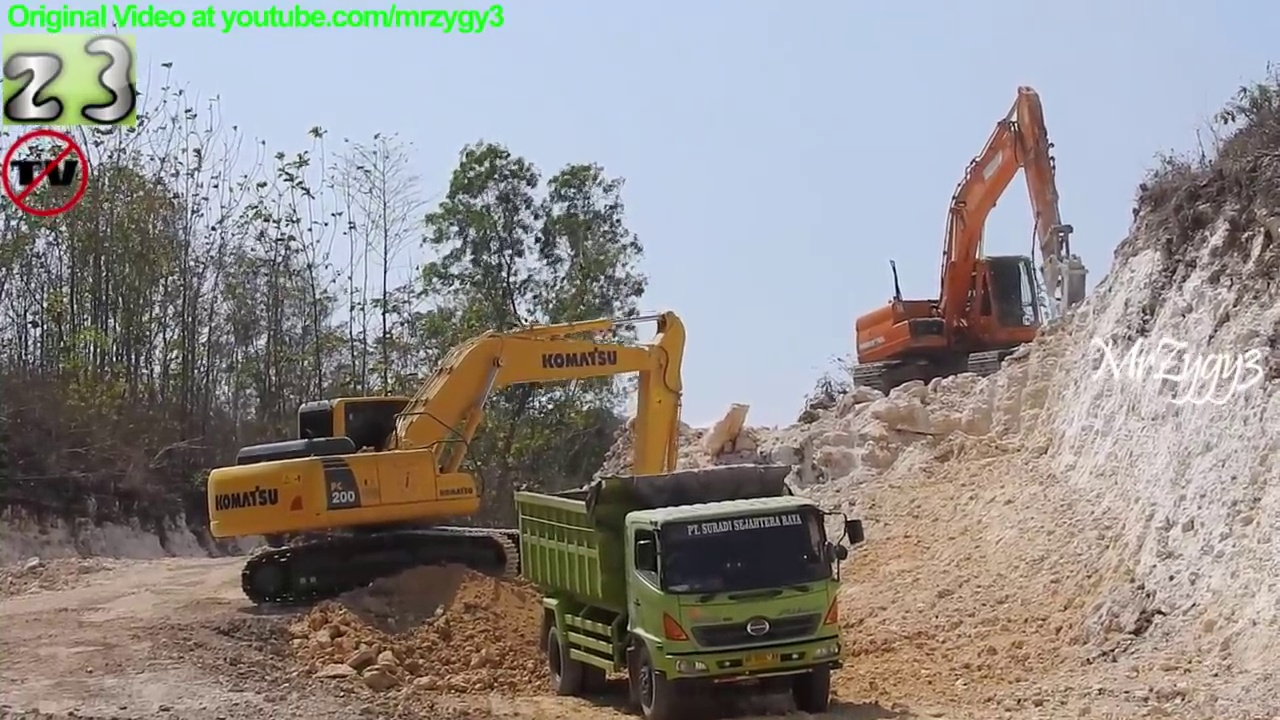excavator: (205, 307, 699, 613), (853, 82, 1096, 399)
truck: (510, 459, 876, 720)
